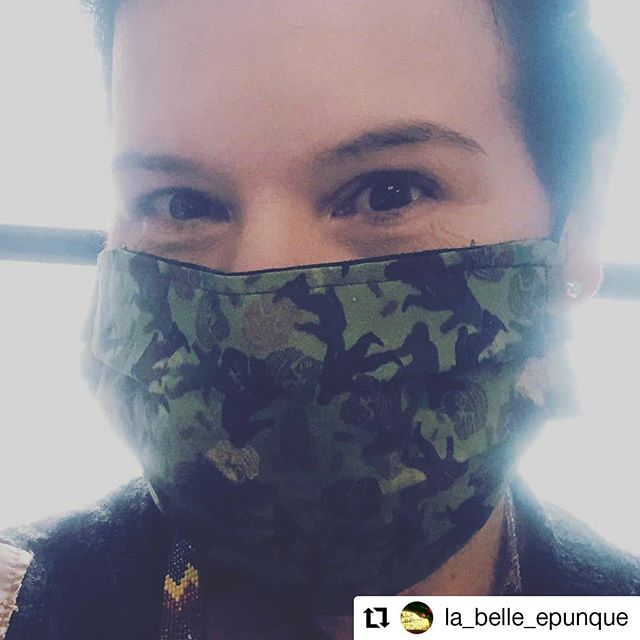homemade: (88, 246, 570, 569)
